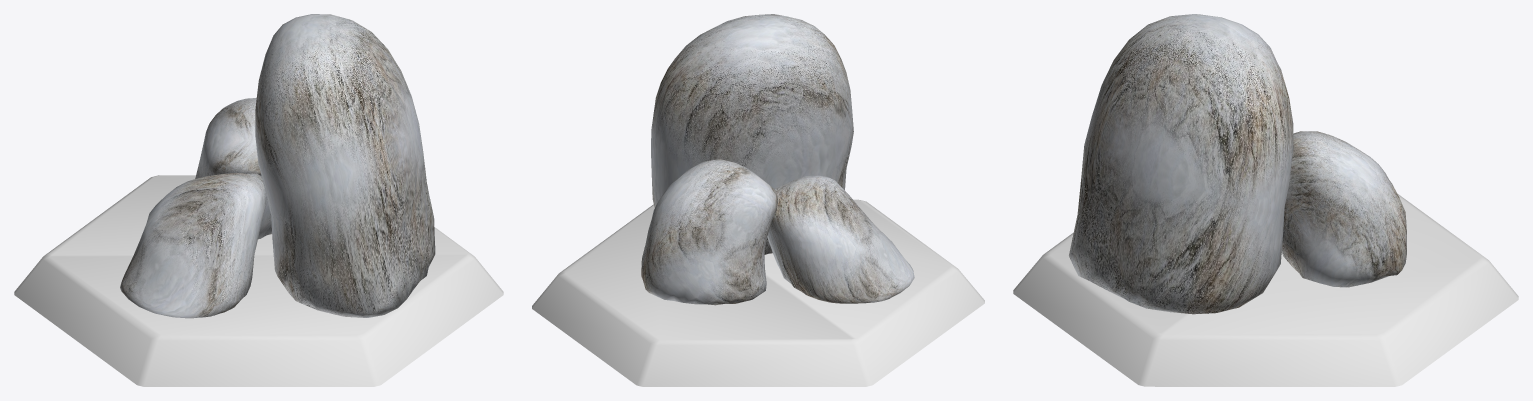
File: Boulder.FBX
3 views of the same model, side by side, from view 1: azimuth 30°, elevation 25°; view 2: azimuth 150°, elevation 25°; view 3: azimuth 270°, elevation 25° (orthographic). The views are drawn at different scales.
Parts seen in each view (by area): view 1: Rock005, Boulder_base; view 2: Rock005, Boulder_base; view 3: Rock005, Boulder_base.
Boxes of the visible parts, x1=… form: Rock005: x1=120, y1=14, x2=435, y2=318; Boulder_base: x1=14, y1=175, x2=503, y2=386; Rock005: x1=641, y1=14, x2=914, y2=305; Boulder_base: x1=532, y1=199, x2=984, y2=386; Rock005: x1=1069, y1=14, x2=1406, y2=314; Boulder_base: x1=1013, y1=193, x2=1518, y2=386.
Bounding box in the file's own units: 7181 × 5253 × 8352.
